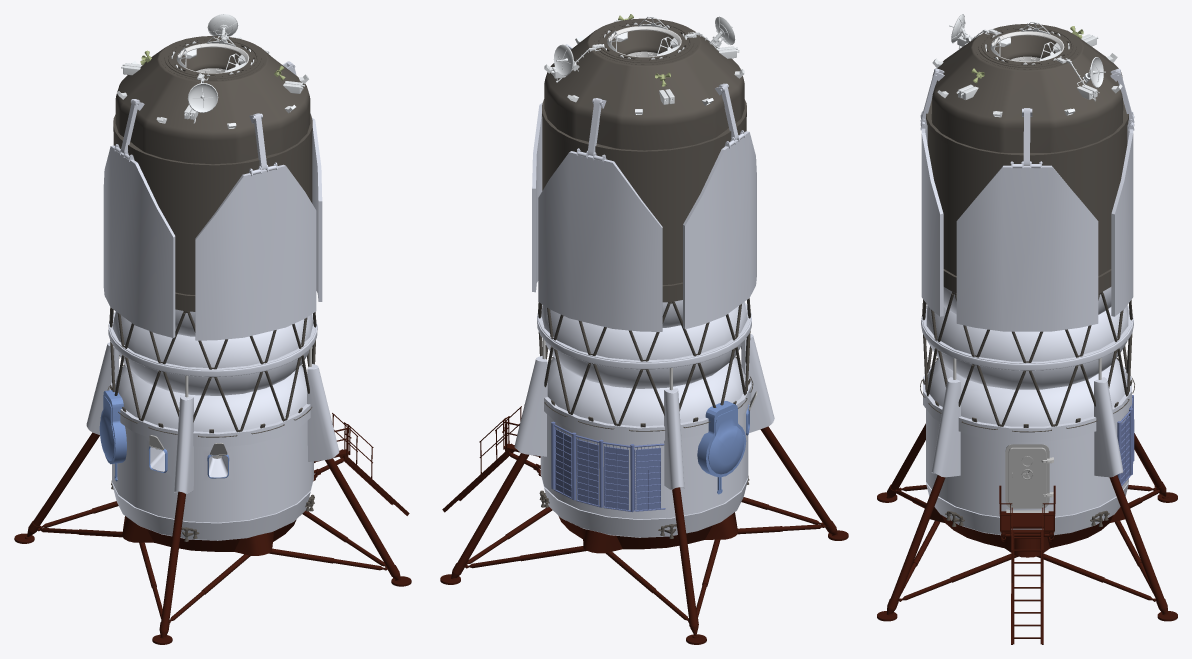
Rendered from Principios del manifiesto agil_2.fbx.
3 renders of one model, left to right at view 1: azimuth 30°, elevation 25°; view 2: azimuth 150°, elevation 25°; view 3: azimuth 270°, elevation 25°, orthographic. The views are drawn at different scales.
Visible parts, largest first — view 1: BodyGEO, Panel_GEO_4, Panel_GEO_6, GoldBase, TopInstrumentation, Leg_Supports_4, Leg_Supports_2, Panel_GEO_3, pCylinder115, Legs_Part_1, Leg_Supports_1, Legs_Part_13 (+2 smaller); view 2: BodyGEO, Panel_GEO_5, Panel_GEO_6, SolarPanel_2_group209_pCylinder161, GoldBase, Leg_Supports_3, TopInstrumentation, Leg_Supports_1, pCylinder25, Leg_Supports_2, Panel_GEO_3, Legs_Part_13 (+3 smaller); view 3: BodyGEO, Panel_GEO_3, Panel_GEO_4, Panel_GEO_5, pCube113, GoldBase, Leg_Supports_3, Leg_Supports_4, TopInstrumentation, Legs_Part_1, Legs_Part_7, SolarPanel_2_group209_pCylinder161 (+4 smaller).
Part boxes in pixels (x1=…): BodyGEO: x1=107, y1=36, x2=317, y2=541; Panel_GEO_4: x1=195, y1=162, x2=316, y2=340; Panel_GEO_6: x1=103, y1=144, x2=175, y2=337; GoldBase: x1=122, y1=516, x2=296, y2=555; TopInstrumentation: x1=117, y1=14, x2=308, y2=129; Leg_Supports_4: x1=307, y1=364, x2=339, y2=461; Leg_Supports_2: x1=174, y1=395, x2=193, y2=493; Panel_GEO_3: x1=310, y1=113, x2=322, y2=301; pCylinder115: x1=159, y1=491, x2=185, y2=637; Legs_Part_1: x1=325, y1=458, x2=400, y2=579; Leg_Supports_1: x1=86, y1=342, x2=118, y2=434; Legs_Part_13: x1=27, y1=432, x2=99, y2=536; BodyGEO: x1=537, y1=18, x2=753, y2=538; Panel_GEO_5: x1=538, y1=148, x2=662, y2=331; Panel_GEO_6: x1=683, y1=130, x2=756, y2=329; SolarPanel_2_group209_pCylinder161: x1=551, y1=421, x2=665, y2=512; GoldBase: x1=558, y1=512, x2=737, y2=553; Leg_Supports_3: x1=514, y1=356, x2=547, y2=456; TopInstrumentation: x1=544, y1=16, x2=744, y2=114; Leg_Supports_1: x1=664, y1=388, x2=684, y2=489; pCylinder25: x1=708, y1=409, x2=745, y2=474; Leg_Supports_2: x1=741, y1=334, x2=774, y2=432; Panel_GEO_3: x1=532, y1=102, x2=542, y2=292; Legs_Part_13: x1=672, y1=487, x2=698, y2=635; BodyGEO: x1=920, y1=23, x2=1134, y2=535; Panel_GEO_3: x1=956, y1=161, x2=1098, y2=331; Panel_GEO_4: x1=920, y1=111, x2=943, y2=316; Panel_GEO_5: x1=1111, y1=112, x2=1134, y2=316; pCube113: x1=1005, y1=444, x2=1049, y2=508; GoldBase: x1=930, y1=507, x2=1124, y2=557; Leg_Supports_3: x1=1094, y1=377, x2=1123, y2=477; Leg_Supports_4: x1=931, y1=377, x2=960, y2=477; TopInstrumentation: x1=932, y1=14, x2=1122, y2=117; Legs_Part_1: x1=887, y1=475, x2=945, y2=613; Legs_Part_7: x1=1109, y1=475, x2=1167, y2=613; SolarPanel_2_group209_pCylinder161: x1=1117, y1=395, x2=1134, y2=485.
Bounding box in the file's own units: 1066 × 1657 × 863.
